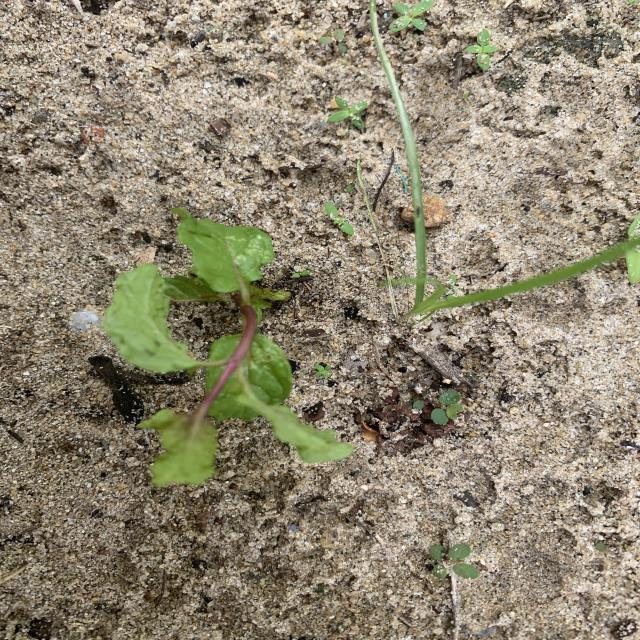crop: (103, 208, 353, 486)
weed: (401, 236, 627, 324), (412, 389, 465, 426), (429, 543, 479, 579), (389, 0, 435, 34), (328, 96, 368, 132), (466, 28, 498, 71), (324, 202, 355, 236), (319, 29, 348, 56), (625, 244, 640, 284), (628, 214, 640, 241), (290, 269, 314, 281), (315, 363, 332, 378)
